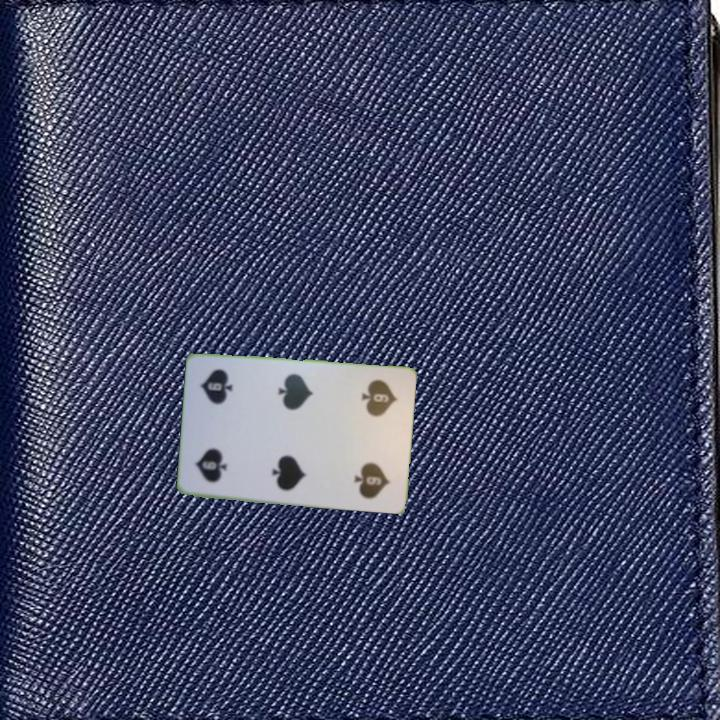s_6.png: (186, 421, 249, 492), (344, 372, 406, 443)
